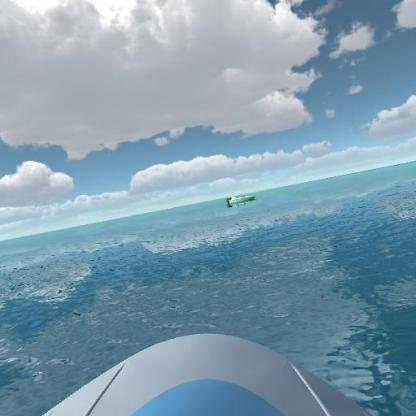usv0: (224, 190, 260, 209)
